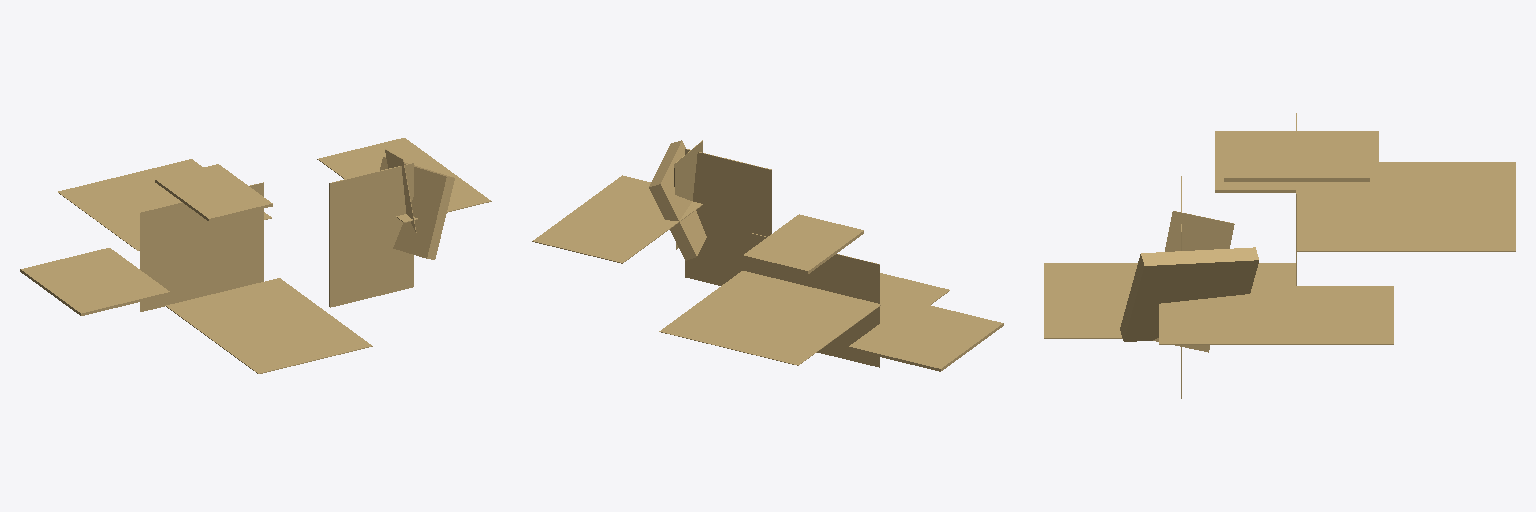
robot.urdf — evolved_design:
<?xml version="1.0" ?>
<robot name="evolved_design">
  <link name="base_link">
    <inertial>
      <mass value="0.001"/>
      <origin xyz="0 0 0" rpy="0 0 0"/>
      <inertia ixx="0.000001" ixy="0" ixz="0" iyy="0.000001" iyz="0" izz="0.000001"/>
    </inertial>
  </link>
  <link name="link_comp_0">
    <inertial>
      <mass value="0.768596"/>
      <origin xyz="0 0 0" rpy="0 0 0"/>
      <inertia ixx="0.034113626" ixy="0" ixz="0" iyy="0.017103133" iyz="0" izz="0.051215608"/>
    </inertial>
    <visual>
      <origin xyz="0 0 0" rpy="0 0 0"/>
      <geometry>
        <box size="0.516740 0.729796 0.002997"/>
      </geometry>
      <material name="link_comp_0_material">
        <color rgba="0.8 0.7 0.5 1"/>
      </material>
    </visual>
    <collision>
      <origin xyz="0 0 0" rpy="0 0 0"/>
      <geometry>
        <box size="0.516740 0.729796 0.002997"/>
      </geometry>
    </collision>
  </link>
  <joint name="base_link_to_link_comp_0" type="fixed">
    <parent link="base_link"/>
    <child link="link_comp_0"/>
    <origin xyz="0.258370 0.364898 0.001499" rpy="0.000000 0.000000 0.000000"/>
  </joint>
  <link name="link_comp_1">
    <inertial>
      <mass value="0.658332"/>
      <origin xyz="0 0 0" rpy="0 0 0"/>
      <inertia ixx="0.015854358" ixy="0" ixz="0" iyy="0.023740530" iyz="0" izz="0.007888647"/>
    </inertial>
    <visual>
      <origin xyz="0 0 0" rpy="0 0 0"/>
      <geometry>
        <box size="0.379171 0.004750 0.537558"/>
      </geometry>
      <material name="link_comp_1_material">
        <color rgba="0.8 0.7 0.5 1"/>
      </material>
    </visual>
    <collision>
      <origin xyz="0 0 0" rpy="0 0 0"/>
      <geometry>
        <box size="0.379171 0.004750 0.537558"/>
      </geometry>
    </collision>
  </link>
  <joint name="base_link_to_link_comp_1" type="fixed">
    <parent link="base_link"/>
    <child link="link_comp_1"/>
    <origin xyz="0.741345 0.398024 0.268779" rpy="0.000000 0.000000 0.000000"/>
  </joint>
  <link name="link_comp_2">
    <inertial>
      <mass value="0.521573"/>
      <origin xyz="0 0 0" rpy="0 0 0"/>
      <inertia ixx="0.008094898" ixy="0" ixz="0" iyy="0.021715280" iyz="0" izz="0.013621258"/>
    </inertial>
    <visual>
      <origin xyz="0 0 0" rpy="0 0 0"/>
      <geometry>
        <box size="0.559803 0.003175 0.431546"/>
      </geometry>
      <material name="link_comp_2_material">
        <color rgba="0.8 0.7 0.5 1"/>
      </material>
    </visual>
    <collision>
      <origin xyz="0 0 0" rpy="0 0 0"/>
      <geometry>
        <box size="0.559803 0.003175 0.431546"/>
      </geometry>
    </collision>
  </link>
  <joint name="base_link_to_link_comp_2" type="fixed">
    <parent link="base_link"/>
    <child link="link_comp_2"/>
    <origin xyz="0.166134 0.731884 0.215773" rpy="0.000000 0.000000 0.000000"/>
  </joint>
  <link name="link_comp_3">
    <inertial>
      <mass value="1.053972"/>
      <origin xyz="0 0 0" rpy="0 0 0"/>
      <inertia ixx="0.015850476" ixy="0" ixz="0" iyy="0.007269775" iyz="0" izz="0.023091918"/>
    </inertial>
    <visual>
      <origin xyz="0 0 0" rpy="0 0 0"/>
      <geometry>
        <box size="0.287417 0.424623 0.012700"/>
      </geometry>
      <material name="link_comp_3_material">
        <color rgba="0.8 0.7 0.5 1"/>
      </material>
    </visual>
    <collision>
      <origin xyz="0 0 0" rpy="0 0 0"/>
      <geometry>
        <box size="0.287417 0.424623 0.012700"/>
      </geometry>
    </collision>
  </link>
  <joint name="base_link_to_link_comp_3" type="fixed">
    <parent link="base_link"/>
    <child link="link_comp_3"/>
    <origin xyz="0.220309 0.732444 0.438396" rpy="0.000000 0.000000 0.000000"/>
  </joint>
  <link name="link_comp_4">
    <inertial>
      <mass value="0.102988"/>
      <origin xyz="0 0 0" rpy="0 0 0"/>
      <inertia ixx="0.001696381" ixy="0" ixz="0" iyy="0.001405224" iyz="0" izz="0.000291228"/>
    </inertial>
    <visual>
      <origin xyz="0 0 0" rpy="0 0 0"/>
      <geometry>
        <box size="0.002032 0.184199 0.404636"/>
      </geometry>
      <material name="link_comp_4_material">
        <color rgba="0.8 0.7 0.5 1"/>
      </material>
    </visual>
    <collision>
      <origin xyz="0 0 0" rpy="0 0 0"/>
      <geometry>
        <box size="0.002032 0.184199 0.404636"/>
      </geometry>
    </collision>
  </link>
  <joint name="base_link_to_link_comp_4" type="fixed">
    <parent link="base_link"/>
    <child link="link_comp_4"/>
    <origin xyz="0.897927 0.424789 0.362100" rpy="-0.175980 -0.105487 -0.098735"/>
  </joint>
  <link name="link_comp_5">
    <inertial>
      <mass value="0.499713"/>
      <origin xyz="0 0 0" rpy="0 0 0"/>
      <inertia ixx="0.016675845" ixy="0" ixz="0" iyy="0.015475114" iyz="0" izz="0.032150657"/>
    </inertial>
    <visual>
      <origin xyz="0 0 0" rpy="0 0 0"/>
      <geometry>
        <box size="0.609600 0.632808 0.001905"/>
      </geometry>
      <material name="link_comp_5_material">
        <color rgba="0.8 0.7 0.5 1"/>
      </material>
    </visual>
    <collision>
      <origin xyz="0 0 0" rpy="0 0 0"/>
      <geometry>
        <box size="0.609600 0.632808 0.001905"/>
      </geometry>
    </collision>
  </link>
  <joint name="base_link_to_link_comp_5" type="fixed">
    <parent link="base_link"/>
    <child link="link_comp_5"/>
    <origin xyz="0.181850 1.050376 0.266497" rpy="0.000000 0.000000 0.000000"/>
  </joint>
  <link name="link_comp_6">
    <inertial>
      <mass value="1.564937"/>
      <origin xyz="0 0 0" rpy="0 0 0"/>
      <inertia ixx="0.029473396" ixy="0" ixz="0" iyy="0.021295327" iyz="0" izz="0.050731235"/>
    </inertial>
    <visual>
      <origin xyz="0 0 0" rpy="0 0 0"/>
      <geometry>
        <box size="0.403918 0.475247 0.011989"/>
      </geometry>
      <material name="link_comp_6_material">
        <color rgba="0.8 0.7 0.5 1"/>
      </material>
    </visual>
    <collision>
      <origin xyz="0 0 0" rpy="0 0 0"/>
      <geometry>
        <box size="0.403918 0.475247 0.011989"/>
      </geometry>
    </collision>
  </link>
  <joint name="base_link_to_link_comp_6" type="fixed">
    <parent link="base_link"/>
    <child link="link_comp_6"/>
    <origin xyz="-0.316227 0.732447 0.178403" rpy="0.000000 0.000000 0.000000"/>
  </joint>
  <link name="link_comp_7">
    <inertial>
      <mass value="3.938692"/>
      <origin xyz="0 0 0" rpy="0 0 0"/>
      <inertia ixx="0.076126174" ixy="0" ixz="0" iyy="0.037132488" iyz="0" izz="0.040634808"/>
    </inertial>
    <visual>
      <origin xyz="0 0 0" rpy="0 0 0"/>
      <geometry>
        <box size="0.050000 0.348284 0.332613"/>
      </geometry>
      <material name="link_comp_7_material">
        <color rgba="0.8 0.7 0.5 1"/>
      </material>
    </visual>
    <collision>
      <origin xyz="0 0 0" rpy="0 0 0"/>
      <geometry>
        <box size="0.050000 0.348284 0.332613"/>
      </geometry>
    </collision>
  </link>
  <joint name="base_link_to_link_comp_7" type="fixed">
    <parent link="base_link"/>
    <child link="link_comp_7"/>
    <origin xyz="0.924443 0.421300 0.332163" rpy="-0.083462 0.424613 0.249538"/>
  </joint>
  <link name="link_comp_8">
    <inertial>
      <mass value="0.557433"/>
      <origin xyz="0 0 0" rpy="0 0 0"/>
      <inertia ixx="0.021551886" ixy="0" ixz="0" iyy="0.007242874" iyz="0" izz="0.028793897"/>
    </inertial>
    <visual>
      <origin xyz="0 0 0" rpy="0 0 0"/>
      <geometry>
        <box size="0.394854 0.681134 0.003048"/>
      </geometry>
      <material name="link_comp_8_material">
        <color rgba="0.8 0.7 0.5 1"/>
      </material>
    </visual>
    <collision>
      <origin xyz="0 0 0" rpy="0 0 0"/>
      <geometry>
        <box size="0.394854 0.681134 0.003048"/>
      </geometry>
    </collision>
  </link>
  <joint name="base_link_to_link_comp_8" type="fixed">
    <parent link="base_link"/>
    <child link="link_comp_8"/>
    <origin xyz="1.048575 0.672252 0.324326" rpy="0.000000 0.000000 0.000000"/>
  </joint>
</robot>

--- Render facts (derived) ---
The picture shows the robot from 3 angles, left to right: view 1: azimuth 30°, elevation 25°; view 2: azimuth 150°, elevation 25°; view 3: azimuth 270°, elevation 25°; orthographic projection.
Model evolved_design with 10 links and 9 joints (9 fixed), rooted at base_link, posed all joints at 0.
Links seen in each view (by area): view 1: link_comp_0, link_comp_2, link_comp_1, link_comp_6, link_comp_5, link_comp_3, link_comp_8, link_comp_7; view 2: link_comp_5, link_comp_1, link_comp_8, link_comp_6, link_comp_2, link_comp_3, link_comp_7, link_comp_0, link_comp_4; view 3: link_comp_5, link_comp_8, link_comp_7, link_comp_0, link_comp_3, link_comp_6, link_comp_4.
Link boxes in pixels (box(x1,y1,x2,y2)): link_comp_0: box(166, 278, 372, 373); link_comp_2: box(140, 182, 263, 311); link_comp_1: box(329, 163, 413, 307); link_comp_6: box(20, 248, 169, 315); link_comp_5: box(58, 159, 271, 250); link_comp_3: box(155, 164, 272, 221); link_comp_8: box(317, 138, 491, 222); link_comp_7: box(380, 157, 454, 259); link_comp_5: box(659, 271, 881, 365); link_comp_1: box(685, 149, 771, 285); link_comp_8: box(532, 175, 702, 263); link_comp_6: box(849, 301, 1003, 371); link_comp_2: box(752, 233, 879, 367); link_comp_3: box(743, 214, 863, 273); link_comp_7: box(649, 140, 706, 260); link_comp_0: box(880, 273, 949, 322); link_comp_4: box(674, 140, 702, 249); link_comp_5: box(1297, 162, 1515, 251); link_comp_8: box(1159, 286, 1393, 344); link_comp_7: box(1120, 247, 1258, 341); link_comp_0: box(1044, 263, 1295, 338); link_comp_3: box(1224, 136, 1369, 181); link_comp_6: box(1215, 131, 1378, 192); link_comp_4: box(1153, 211, 1234, 352).
Size in the robot's own frame: 1.76 by 1.37 by 0.5763 metres.
Geometry: primitives only (box / cylinder / sphere), no mesh files.